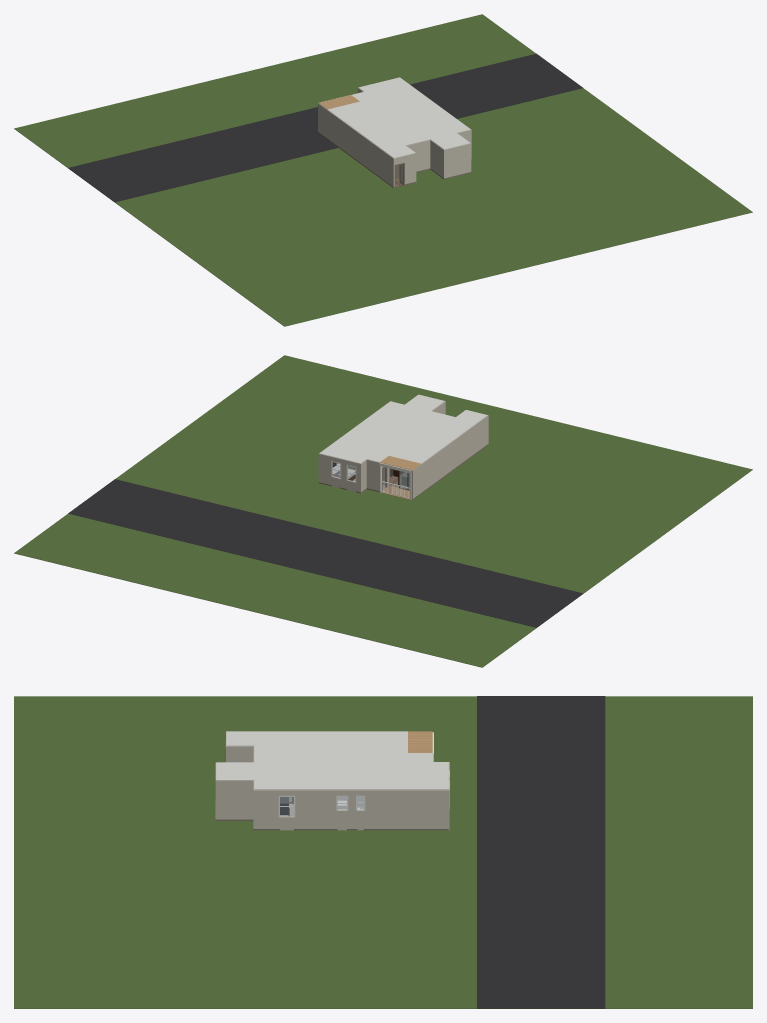
File: unit_type_f.glb
3 views of the same model, one above another, from view 1: azimuth 30°, elevation 25°; view 2: azimuth 150°, elevation 25°; view 3: azimuth 270°, elevation 25° (orthographic). The views are drawn at different scales.
Visible parts, largest first — view 1: Ground_Lawn, Ground_Lot, Ceiling_Living_Dining_Kitchen, Ext_West_0, Ceiling_Primary_Bedroom, Ext_Closet2_South_0, Ceiling_Bedroom2; view 2: Ground_Lawn, Ground_Lot, Ext_West_0, Ceiling_Living_Dining_Kitchen, Ceiling_Primary_Bedroom, Ceiling_Bedroom2; view 3: Ground_Lawn, Ground_Lot, Ceiling_Living_Dining_Kitchen, Ext_East_0, Ext_East_2, Ceiling_Primary_Bedroom, Ext_Closet2_East_0, Ceiling_Bedroom2, Ext_East_3, Ceiling_Bedroom2_Closet, Ceiling_Primary_Bath, Ceiling_Bath2_A (+1 smaller).
Part boxes in pixels (left/top/right/bottom): Ground_Lawn: left=14, top=14, right=752, bottom=326; Ground_Lot: left=68, top=53, right=582, bottom=202; Ceiling_Living_Dining_Kitchen: left=327, top=100, right=422, bottom=150; Ext_West_0: left=318, top=103, right=393, bottom=185; Ceiling_Primary_Bedroom: left=358, top=77, right=419, bottom=101; Ext_Closet2_South_0: left=443, top=143, right=470, bottom=178; Ceiling_Bedroom2: left=412, top=116, right=470, bottom=139; Ground_Lawn: left=14, top=355, right=752, bottom=667; Ground_Lot: left=68, top=479, right=582, bottom=627; Ext_West_0: left=411, top=415, right=488, bottom=499; Ceiling_Living_Dining_Kitchen: left=382, top=413, right=477, bottom=463; Ceiling_Primary_Bedroom: left=319, top=438, right=380, bottom=463; Ceiling_Bedroom2: left=372, top=401, right=430, bottom=424; Ground_Lawn: left=14, top=696, right=752, bottom=1008; Ground_Lot: left=477, top=696, right=605, bottom=1008; Ceiling_Living_Dining_Kitchen: left=254, top=731, right=407, bottom=757; Ext_East_0: left=363, top=790, right=448, bottom=828; Ext_East_2: left=294, top=790, right=337, bottom=828; Ceiling_Primary_Bedroom: left=393, top=762, right=448, bottom=789; Ext_Closet2_East_0: left=215, top=780, right=253, bottom=819; Ceiling_Bedroom2: left=254, top=762, right=304, bottom=789; Ext_East_3: left=253, top=790, right=279, bottom=828; Ceiling_Bedroom2_Closet: left=216, top=762, right=254, bottom=780; Ceiling_Primary_Bath: left=355, top=773, right=393, bottom=789; Ceiling_Bath2_A: left=329, top=766, right=355, bottom=789.
Size of the model in its own units: 45.72 by 6.16 by 45.72.
Materials: 33 (6 with a texture image).
